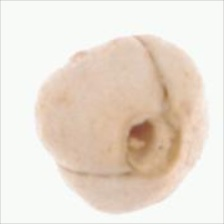L3: (121, 108, 183, 179)
L4: (35, 34, 207, 214)
